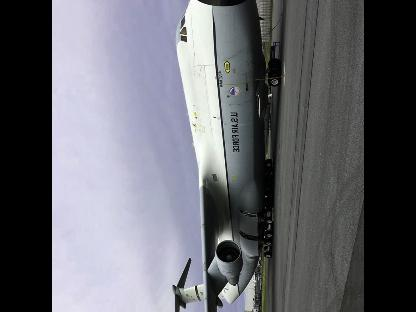C17: (172, 0, 285, 311)
